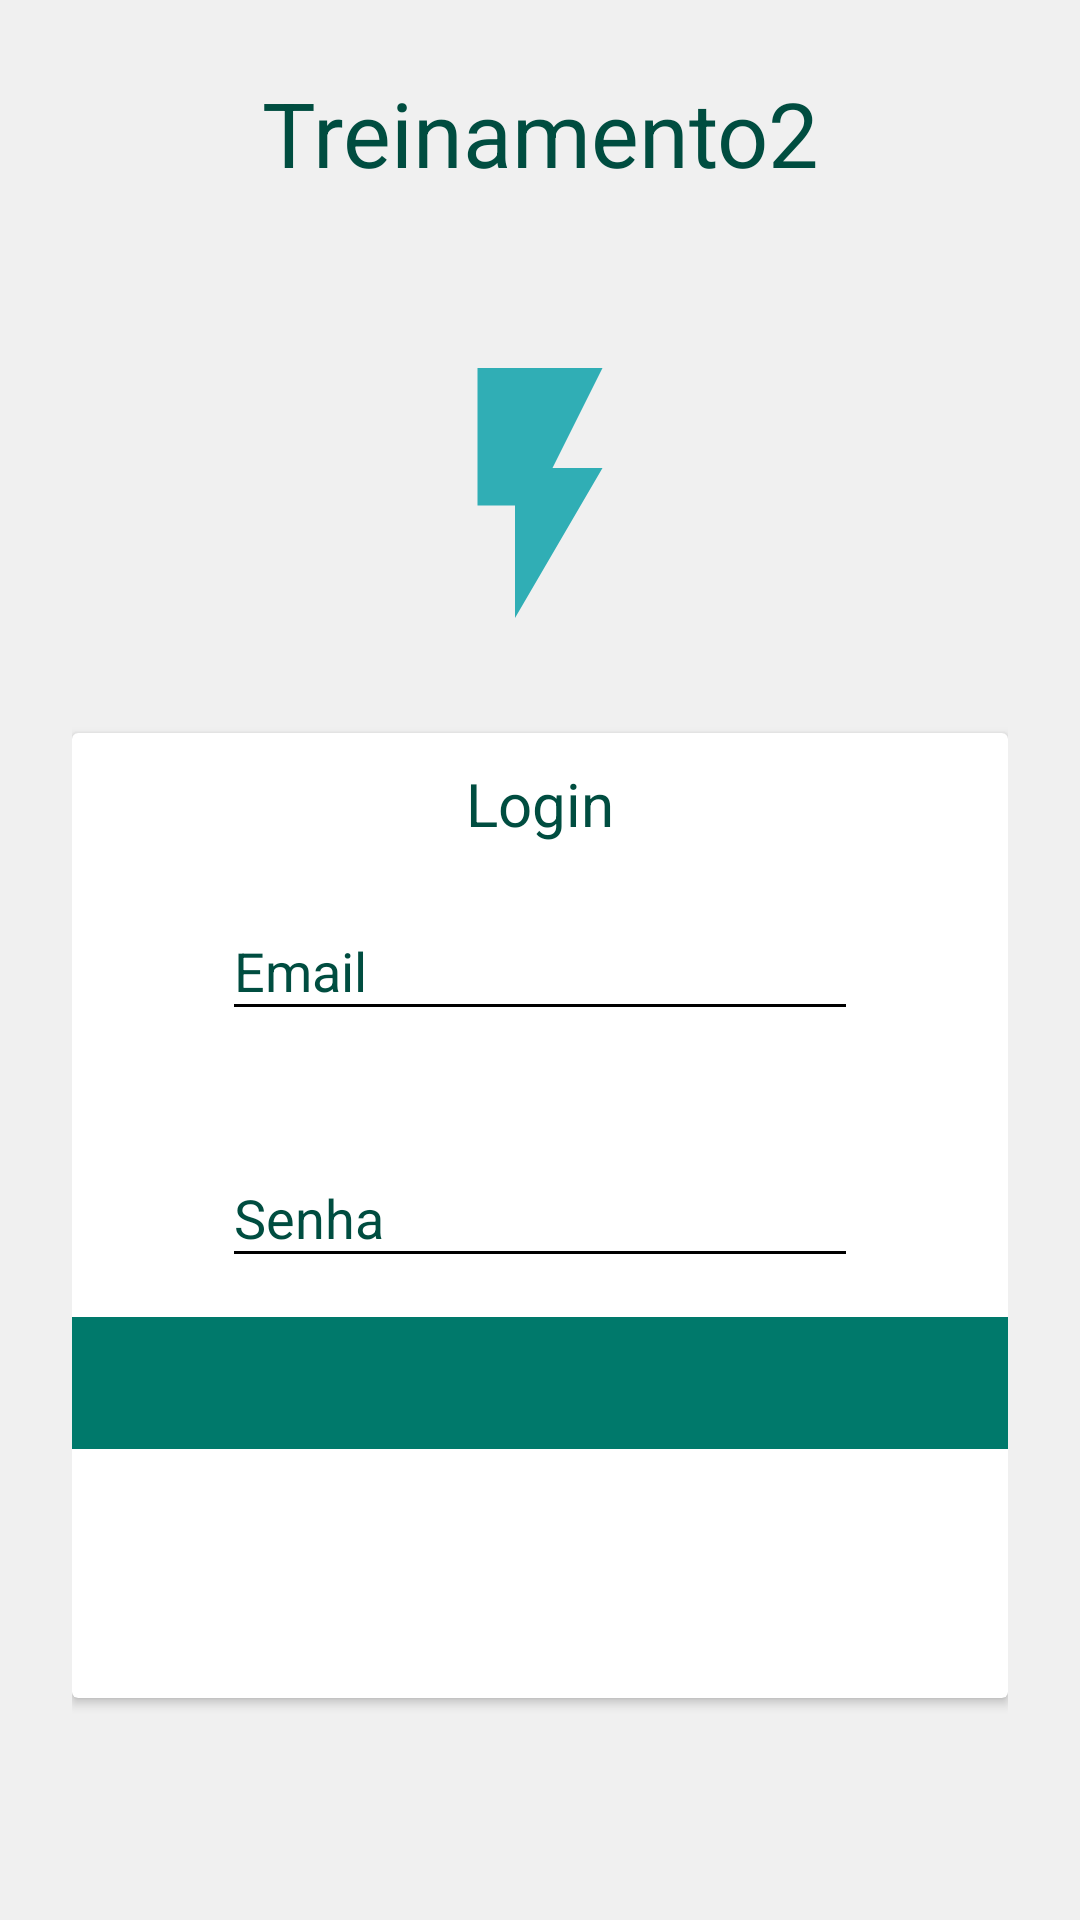

Screen size 1080 x 1920. Icon name, then its center in pixels as (x,y):
flash on: (540,493)
